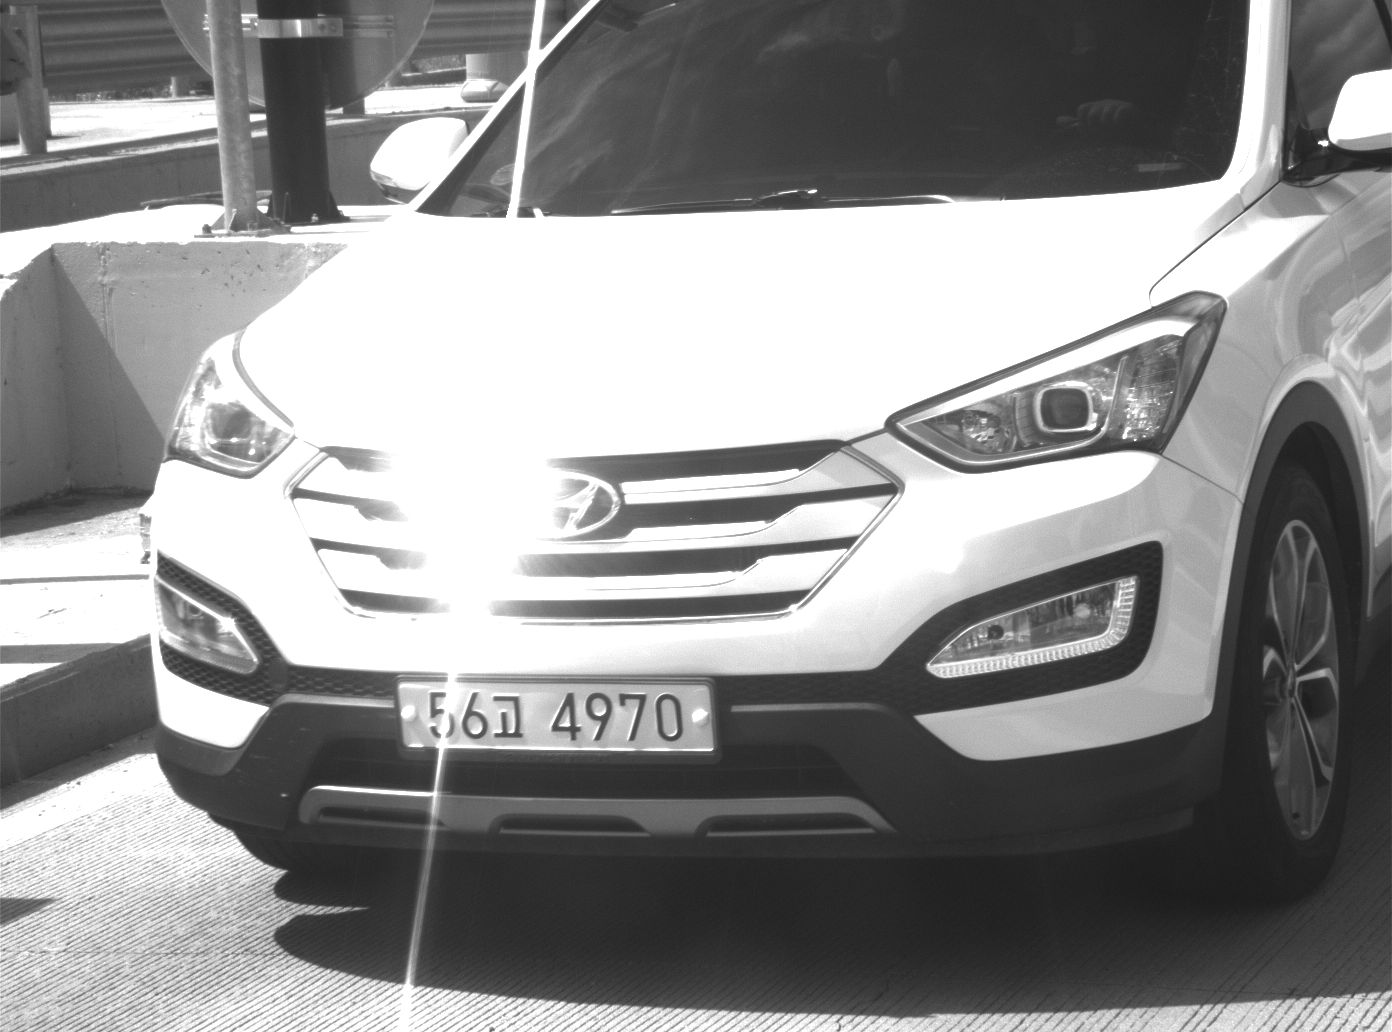car: (148, 1, 1392, 909)
plate: (396, 677, 715, 755)
